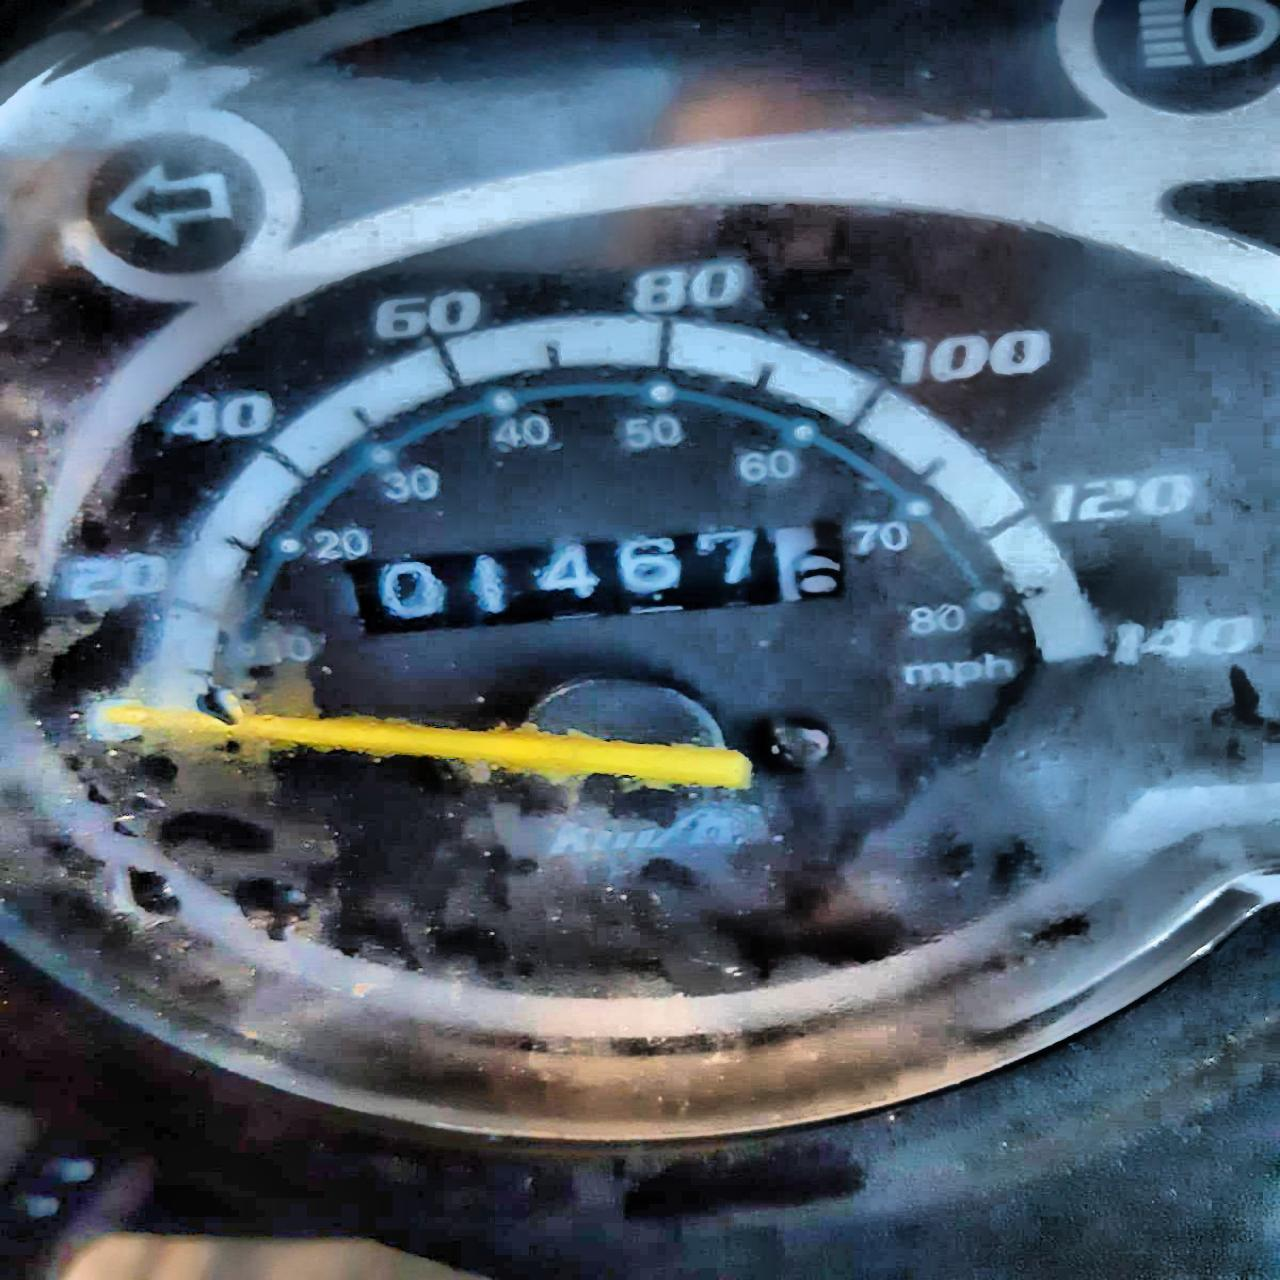0: (380, 561, 445, 620), (341, 527, 368, 556)
1: (469, 551, 517, 615)
4: (537, 540, 601, 600)
6: (614, 535, 679, 592), (784, 544, 845, 602)
7: (696, 525, 758, 587)
odometer: (332, 519, 850, 645)
